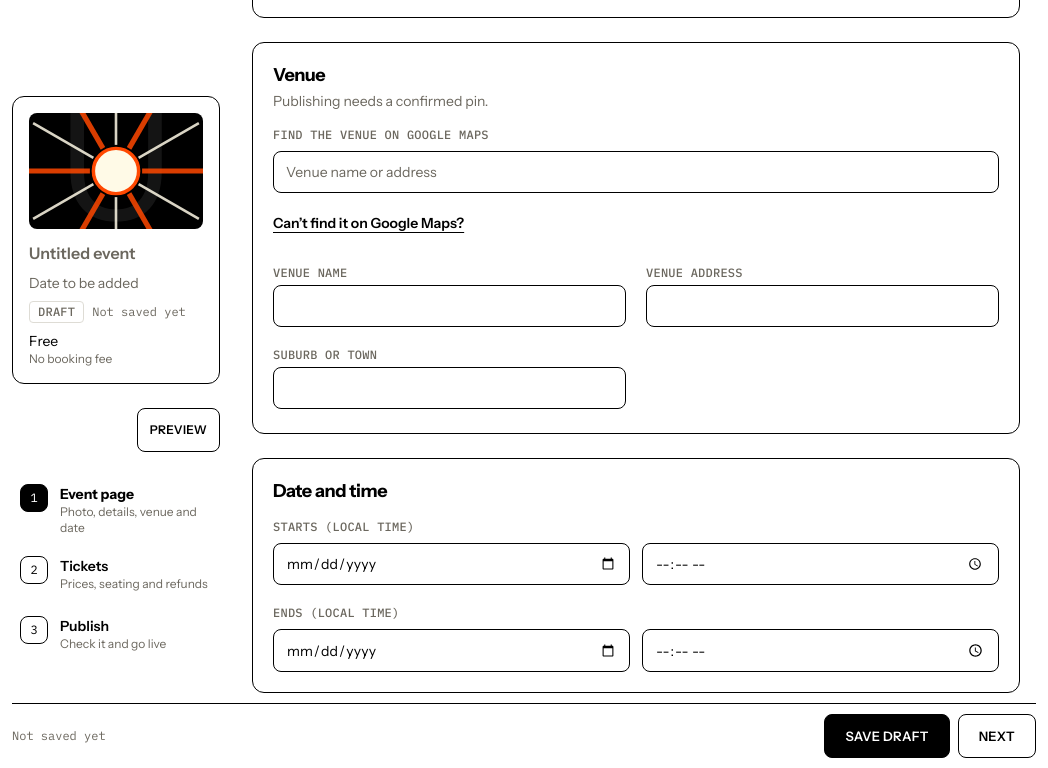
Test: VenueSuburbField — resolving the suburb › suggests suburbs as “Suburb, STATE”, both Richmonds told apart
The image size is (1048, 768).
(page scrolled)
In the field labelled "Suburb or town": (450, 388) [273, 367, 626, 409], type "Richmond"
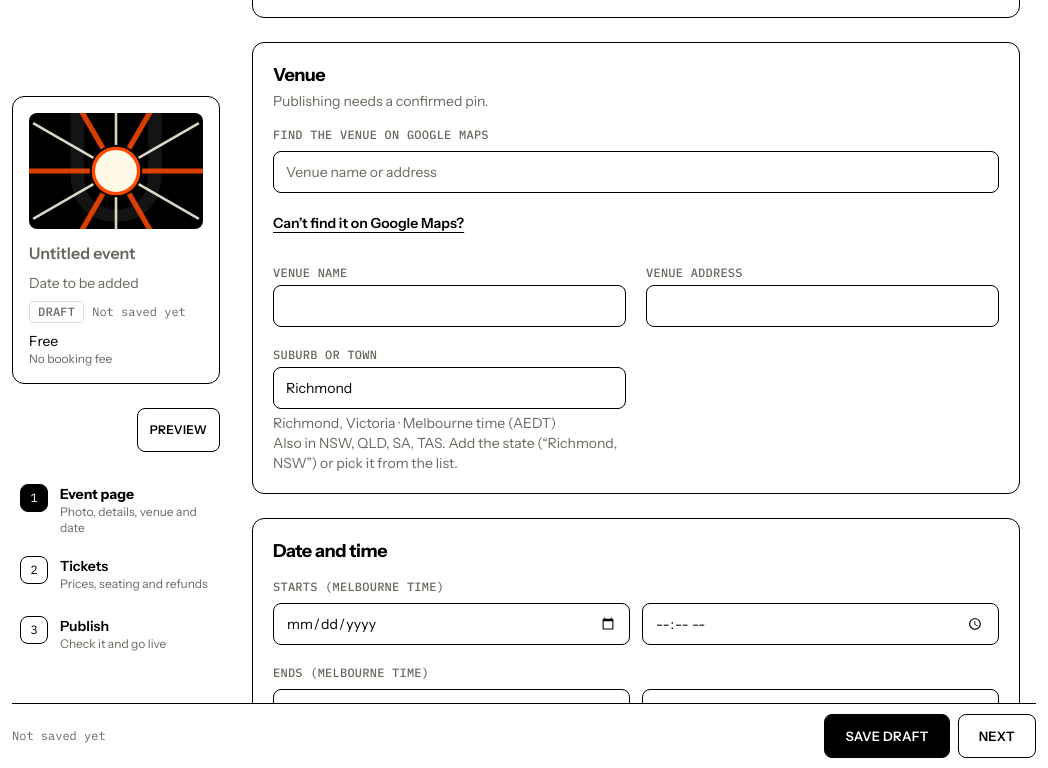
Now the element with id "suburb-hint" is not empty, box [273, 413, 626, 473]
